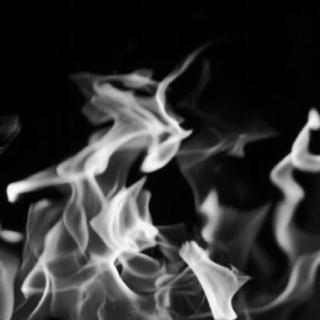Fire: (2, 52, 320, 319)
